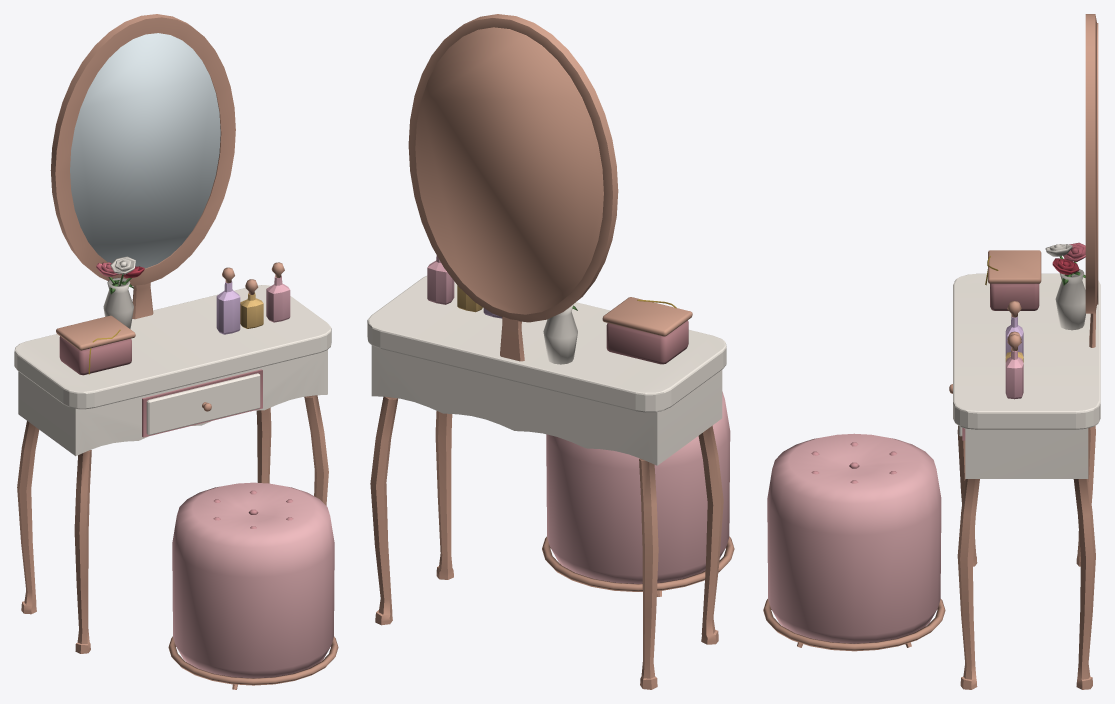
File: vanity.glb
3 renders of one model, left to right at view 1: azimuth 30°, elevation 25°; view 2: azimuth 150°, elevation 25°; view 3: azimuth 270°, elevation 25°, orthographic. The views are drawn at different scales.
Parts seen in each view (by area): view 1: body, drawer; view 2: body; view 3: body.
Part boxes in pixels (x1,y1,x2,y2): body: (14,14,338,689); drawer: (146,373,260,435); body: (367,14,734,689); body: (763,14,1100,689).
Size of the model in its own units: 0.8 by 1.62 by 0.822.
